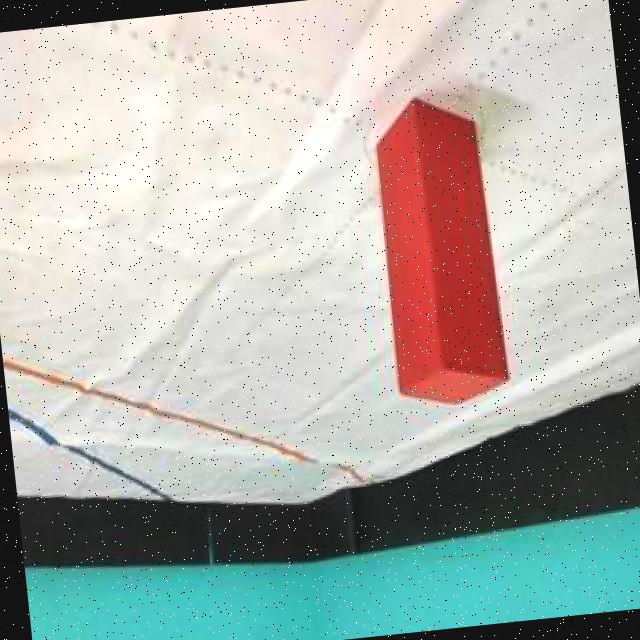redbox: (368, 91, 512, 414)
